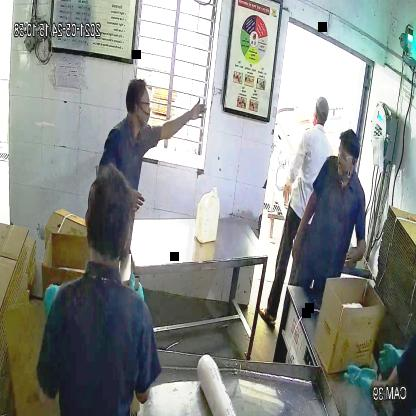goggles: (338, 142, 360, 164)
